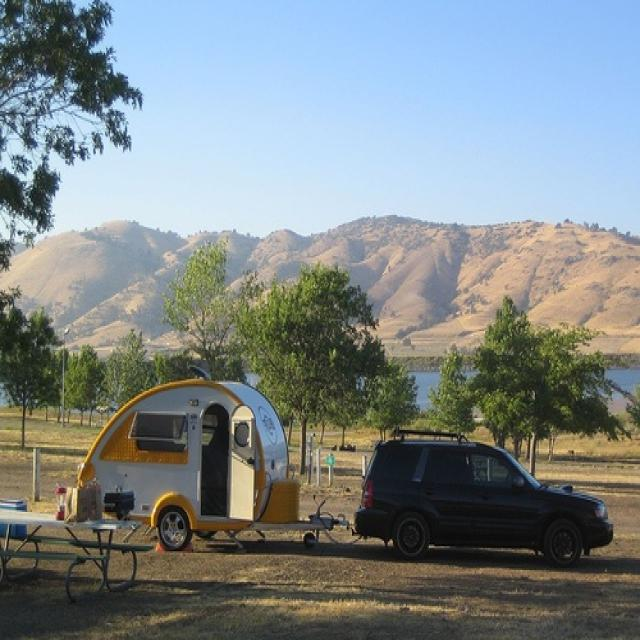car: (357, 425, 617, 570)
